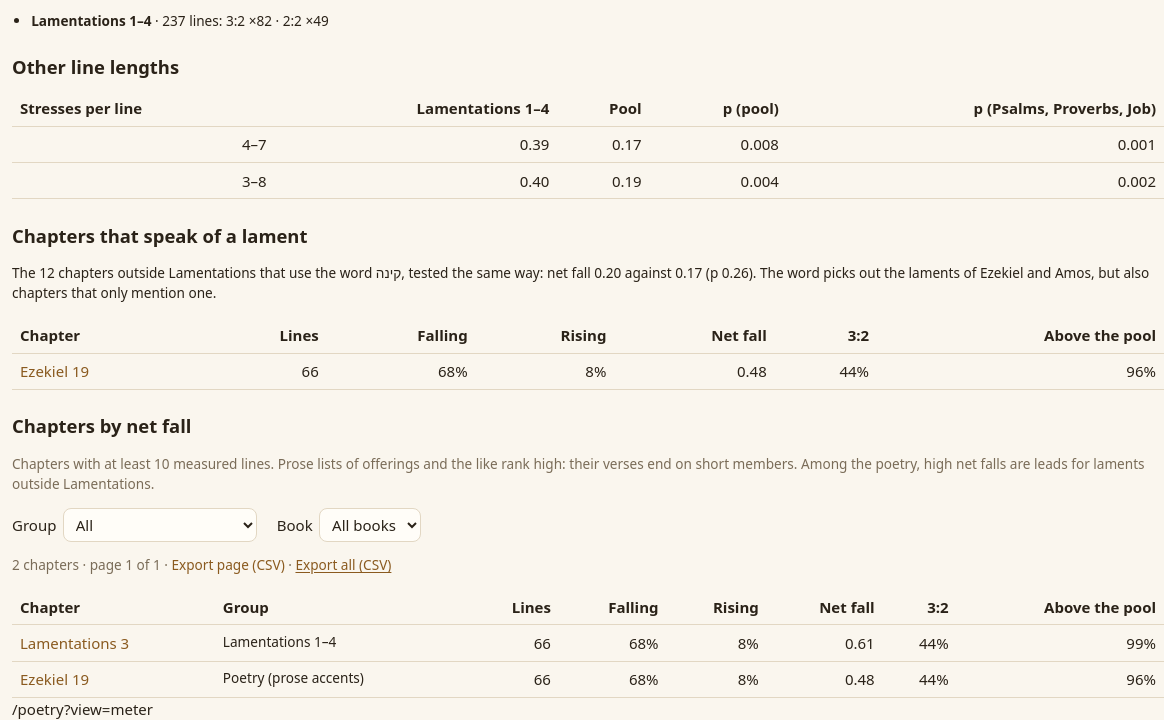
Test: Poetry → Meter › filters the ranking by group
The image size is (1164, 720).
(page scrolled)
Expected: the text "2 chapters ·" is shown, [12,555,391,576]
Select "Poetry (prose accents)" in the dropdown labelled "Group" at [160, 525], box [63,508,257,542]
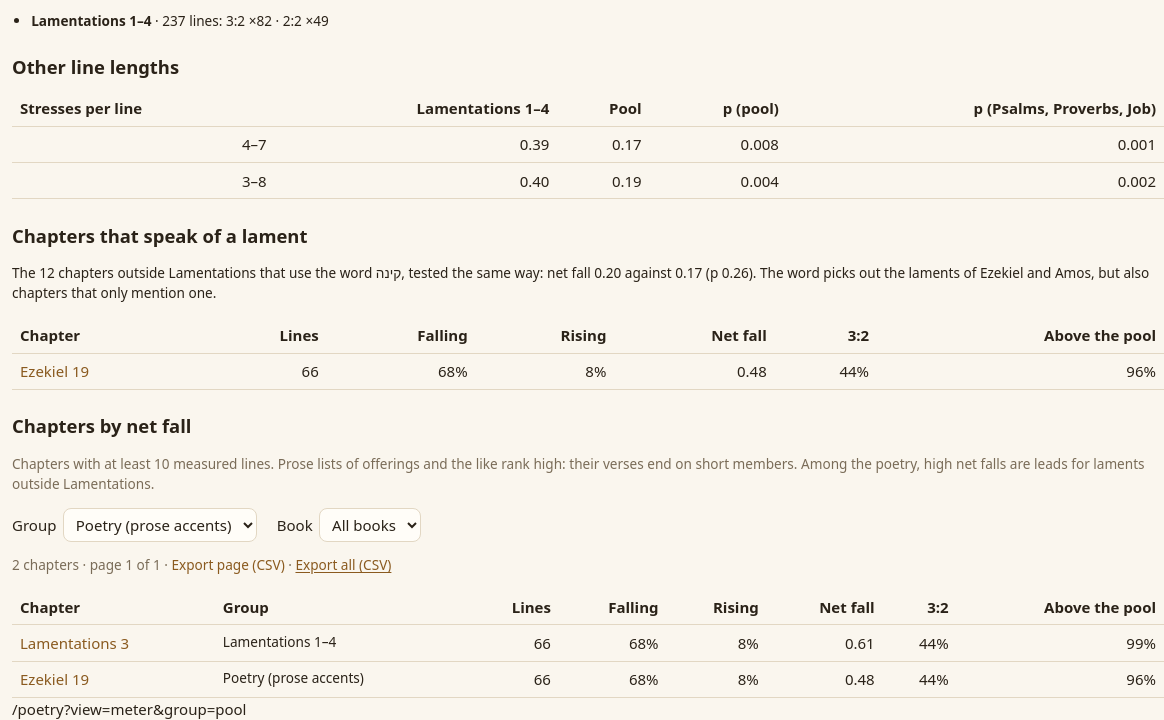
Now the text with test id "loc" reads "/poetry?view=meter&group=pool", box [12,699,246,719]
